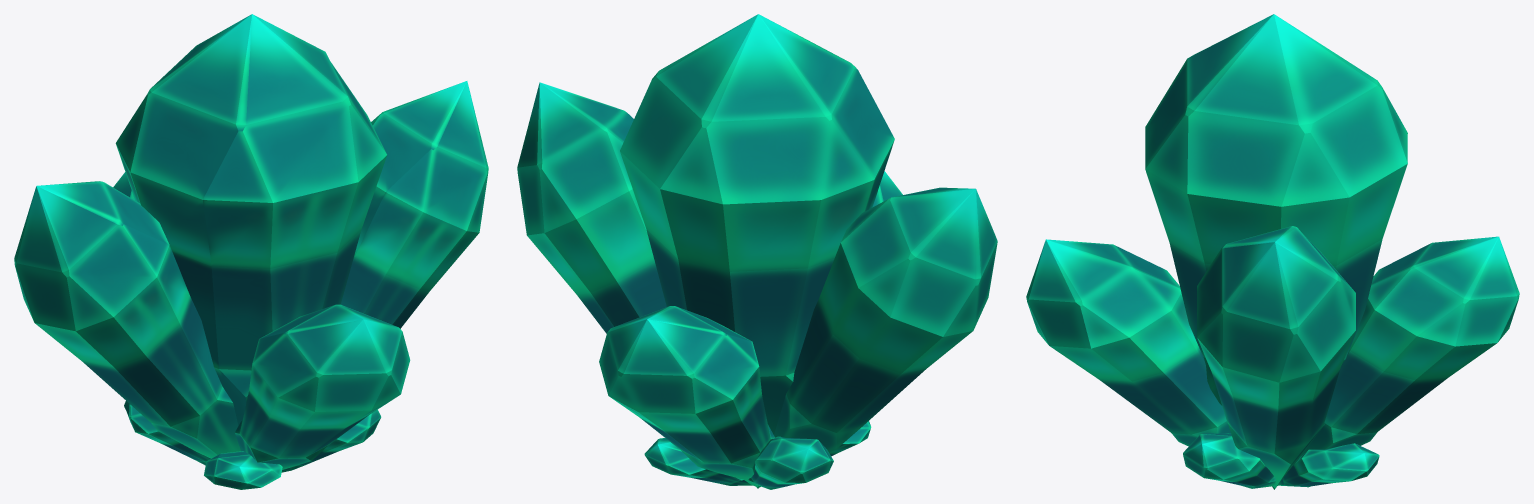
File: Gem.fbx
3 views of the same model, side by side, from view 1: azimuth 30°, elevation 25°; view 2: azimuth 150°, elevation 25°; view 3: azimuth 270°, elevation 25° (orthographic).
Parts seen in each view (by area): view 1: Gem.002, Gem, Gem.003; view 2: Gem.002, Gem, Gem.003; view 3: Gem.002, Gem, Gem.003.
Part boxes in pixels (x1=…): Gem.002: x1=14, y1=81, x2=488, y2=469; Gem: x1=115, y1=14, x2=386, y2=425; Gem.003: x1=124, y1=401, x2=381, y2=489; Gem.002: x1=517, y1=82, x2=997, y2=487; Gem: x1=620, y1=14, x2=894, y2=488; Gem.003: x1=644, y1=421, x2=871, y2=489; Gem.002: x1=1026, y1=226, x2=1519, y2=488; Gem: x1=1145, y1=14, x2=1407, y2=489; Gem.003: x1=1183, y1=433, x2=1379, y2=488.
Bounding box in the file's own units: 401 × 395 × 371.
